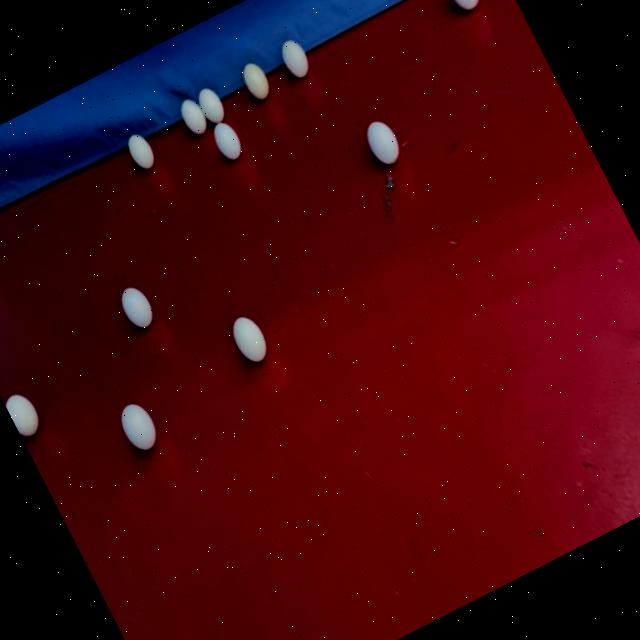ping-pong-ball: (102, 382, 174, 468), (0, 368, 59, 460), (104, 268, 168, 348), (262, 24, 326, 96), (216, 302, 278, 374), (352, 104, 410, 176), (112, 119, 168, 185), (228, 50, 282, 113), (204, 112, 252, 170), (168, 89, 212, 142), (188, 78, 231, 128), (436, 0, 490, 20)
